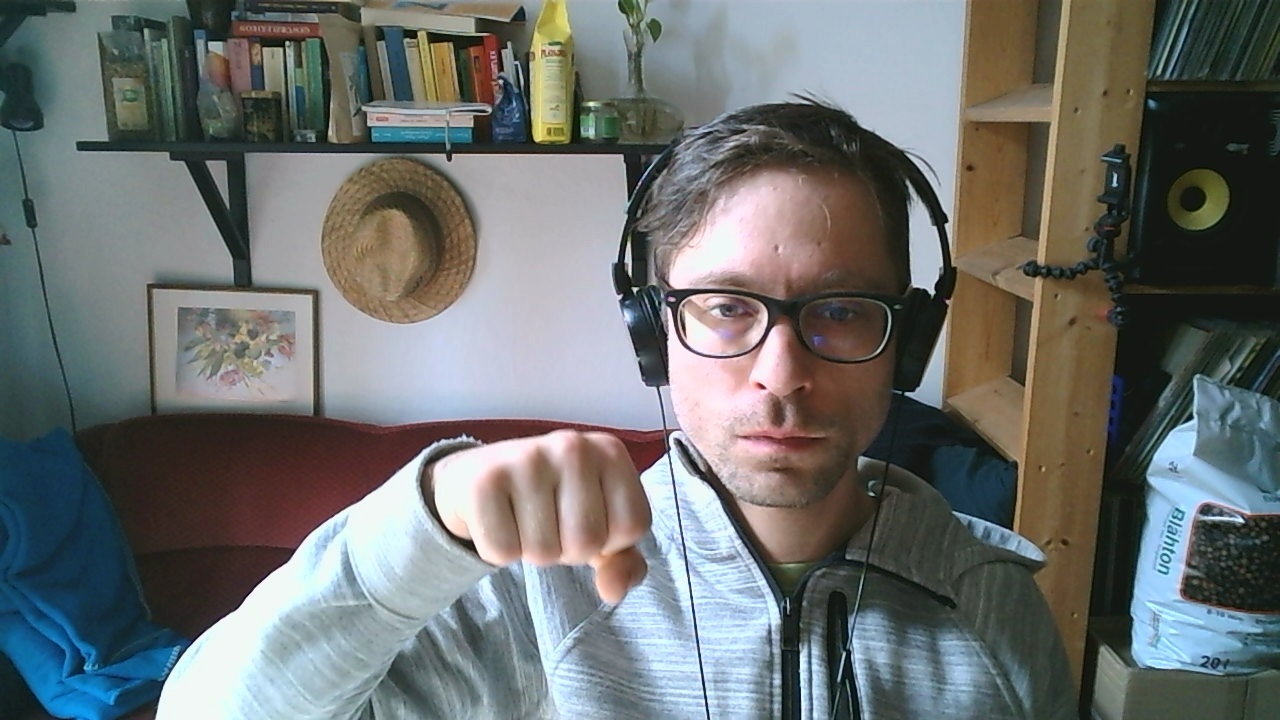yes: (453, 426, 654, 606)
